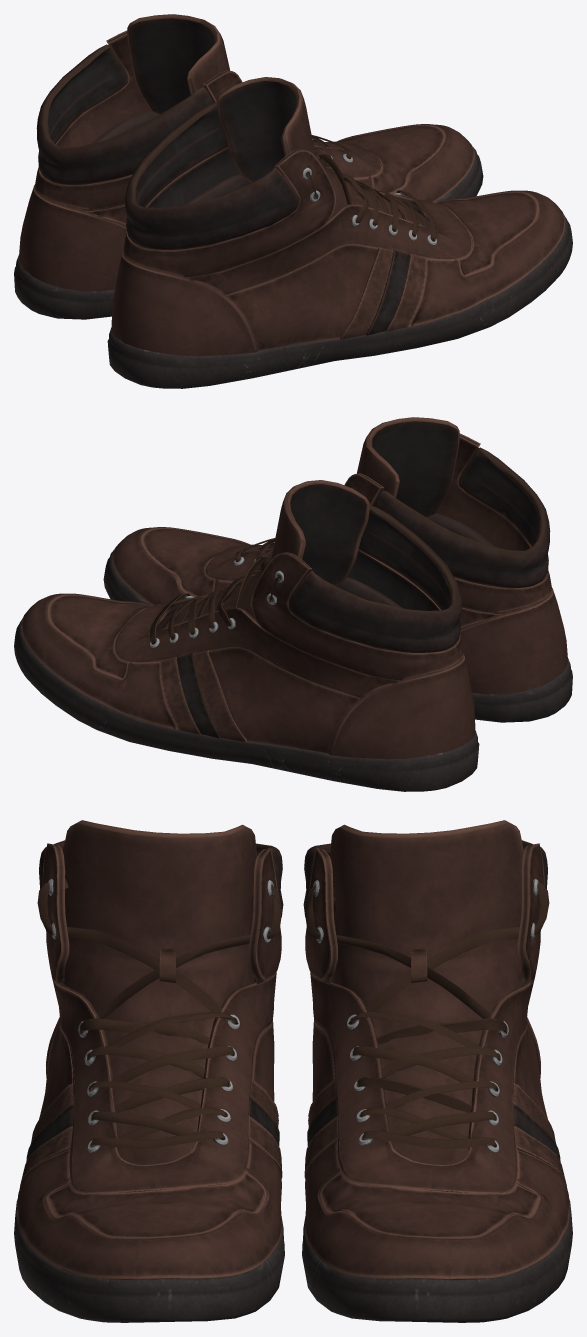
File: YMJ-高帮鞋.fbx
The picture shows the model from 3 angles, top to bottom: view 1: azimuth 30°, elevation 25°; view 2: azimuth 150°, elevation 25°; view 3: azimuth 270°, elevation 25°; orthographic projection. The views are drawn at different scales.
Parts seen in each view (by area): view 1: YMJ-高帮鞋; view 2: YMJ-高帮鞋; view 3: YMJ-高帮鞋.
Boxes of the visible parts, x1,y1,x2,y2 form: YMJ-高帮鞋: (14, 14, 572, 388); YMJ-高帮鞋: (14, 417, 572, 791); YMJ-高帮鞋: (14, 820, 572, 1322).
Size of the model in its own units: 0.2764 by 0.2072 by 0.1436.
